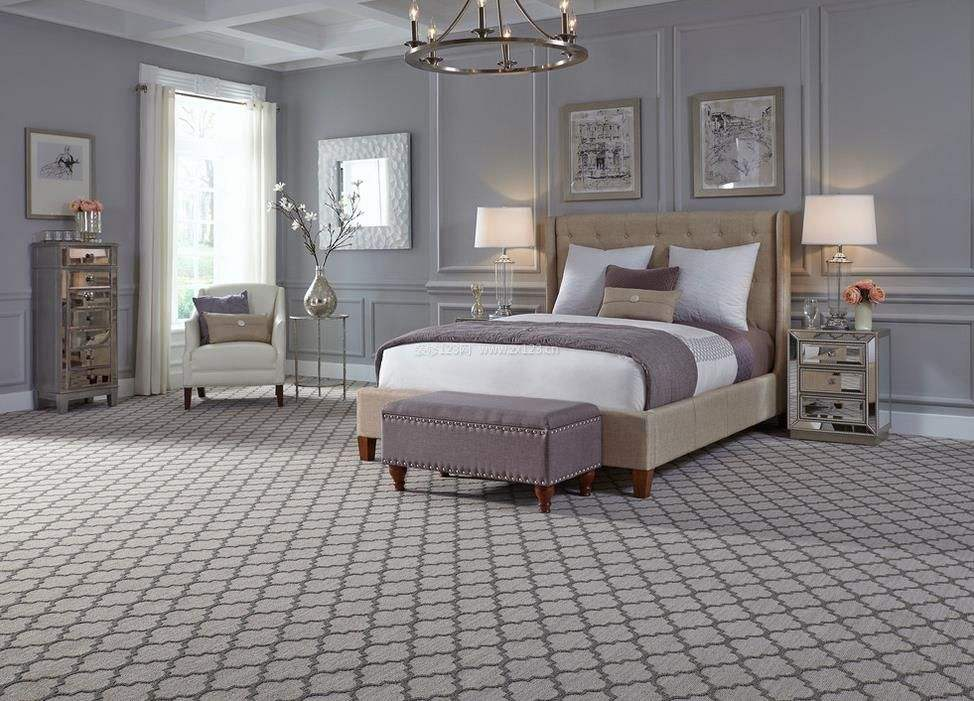床: (381, 296, 769, 501)
枕头: (556, 240, 759, 330)
灯: (388, 3, 593, 78), (801, 186, 873, 320), (465, 202, 535, 313)
